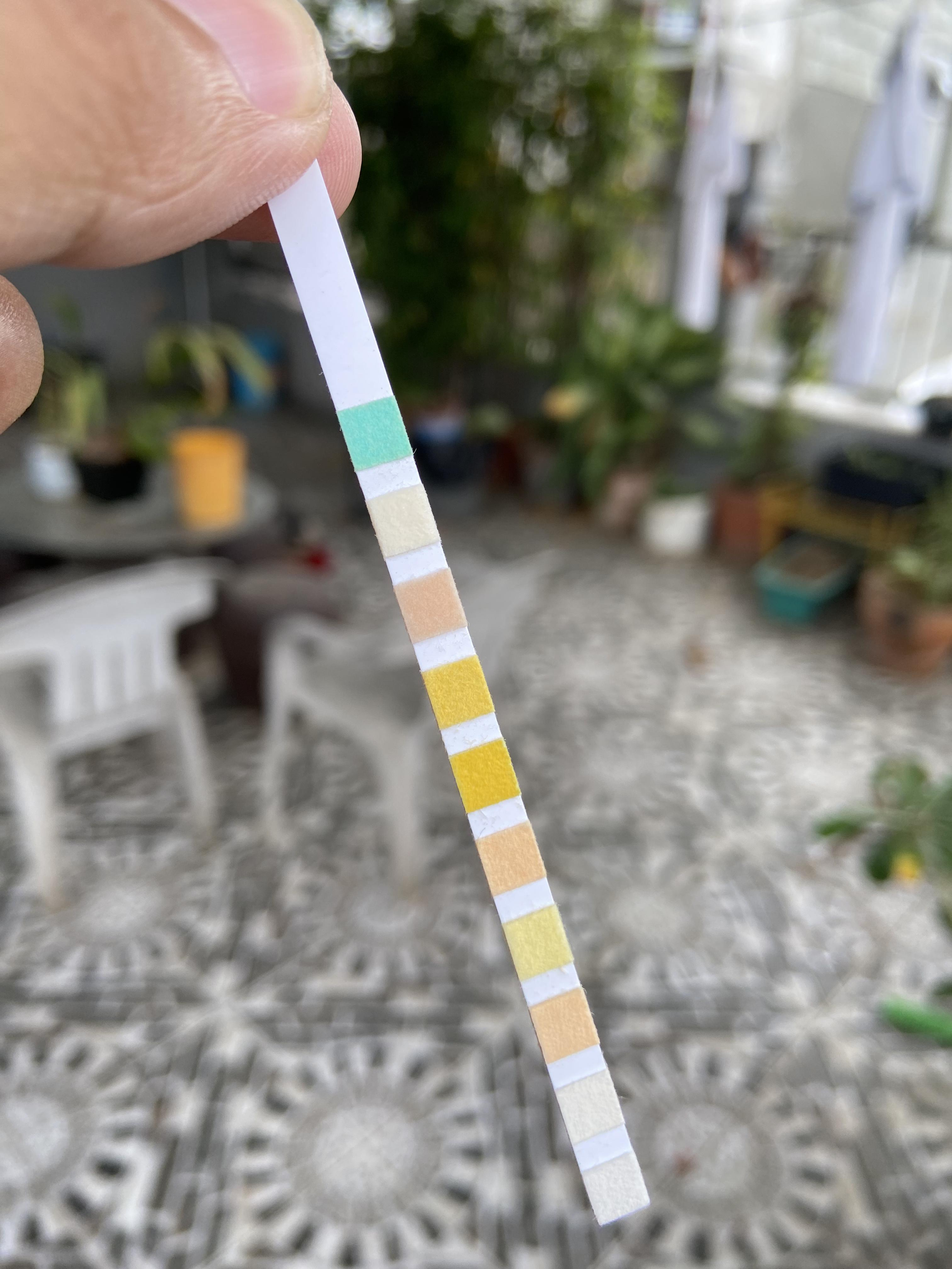Bilirubin: (377, 497, 428, 537)
Blood: (459, 753, 509, 794)
Glucose: (347, 410, 401, 449)
Ketone: (405, 583, 456, 623)
Leukocytes: (593, 1169, 640, 1208)
Nitrite: (567, 1086, 614, 1128)
Protein: (517, 919, 560, 968)
SpGravity: (432, 668, 482, 707)
Urobilinogen: (540, 1004, 589, 1043)
pH: (489, 835, 534, 883)
strip: (271, 181, 650, 1229)
